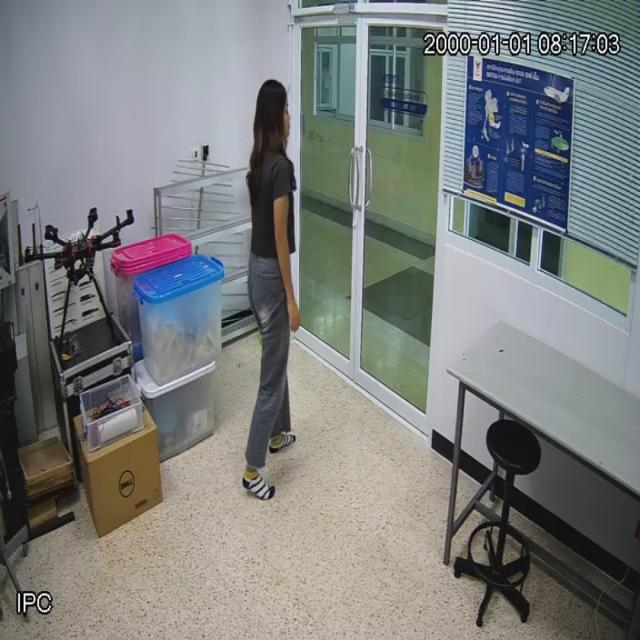normal: (246, 77, 301, 494)
